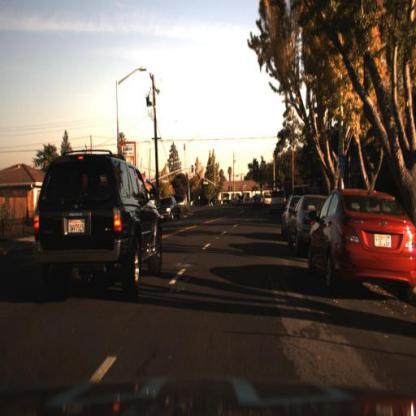car: (25, 144, 164, 310), (307, 189, 416, 302), (287, 193, 318, 256), (279, 189, 297, 245), (269, 185, 291, 218)
